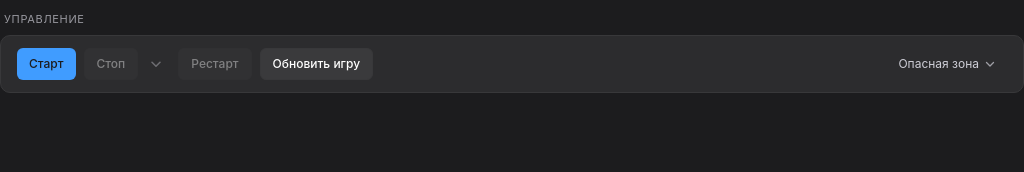
Test case: ServerControls › shows the API error when an action fails
Click the button "Старт": (46, 64) [17, 48, 76, 80]
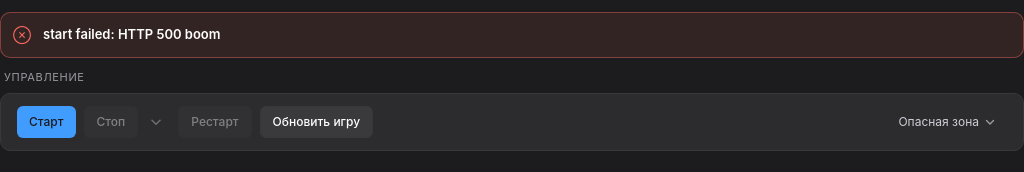
Expected: the text "start failed: HTTP 500 boom" is shown, [43, 26, 220, 42]
